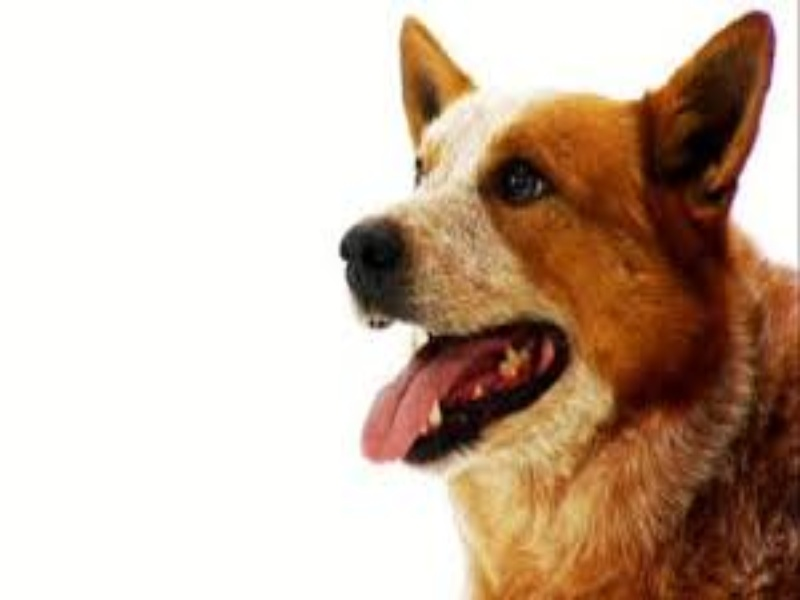dog: (223, 3, 778, 589)
